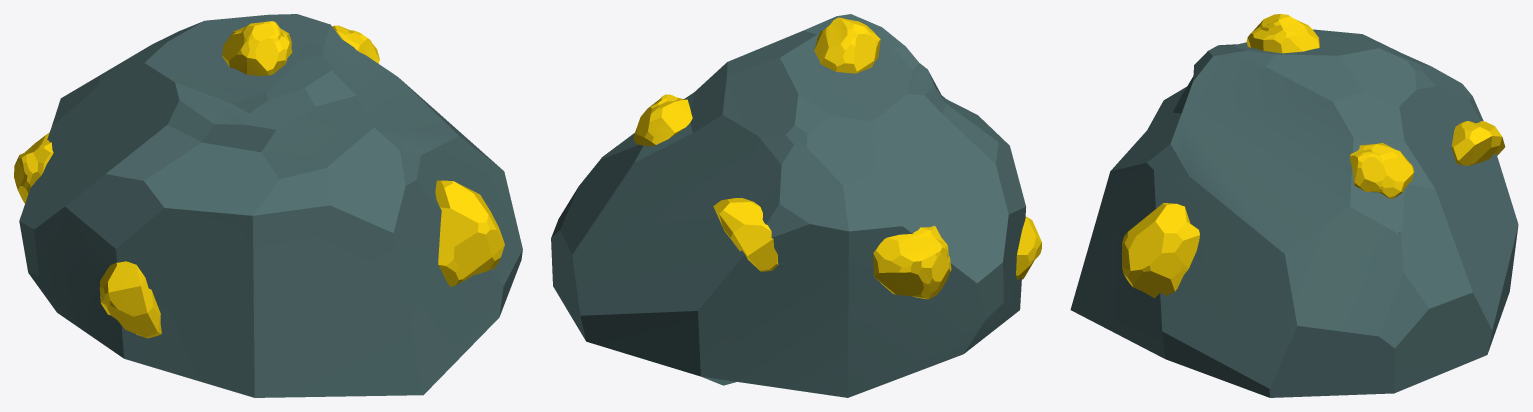
The model's file is Gold2.fbx.
3 views of the same model, side by side, from view 1: azimuth 30°, elevation 25°; view 2: azimuth 150°, elevation 25°; view 3: azimuth 270°, elevation 25° (orthographic). The views are drawn at different scales.
Parts seen in each view (by area): view 1: Rock1, Nodes.001; view 2: Rock1, Nodes.001; view 3: Rock1, Nodes.001.
Part boxes in pixels (left/top/right/bottom): Rock1: left=19, top=14, right=522, bottom=397; Nodes.001: left=14, top=21, right=504, bottom=338; Rock1: left=551, top=14, right=1025, bottom=397; Nodes.001: left=633, top=17, right=1041, bottom=299; Rock1: left=1070, top=29, right=1518, bottom=397; Nodes.001: left=1122, top=14, right=1505, bottom=298.
Bounding box in the file's own units: 173 × 116 × 163.
